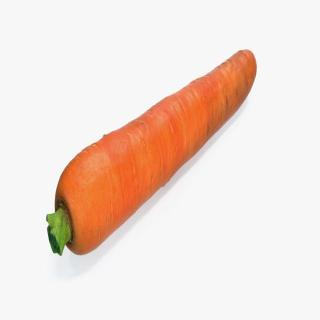carrot: (45, 48, 258, 274)
